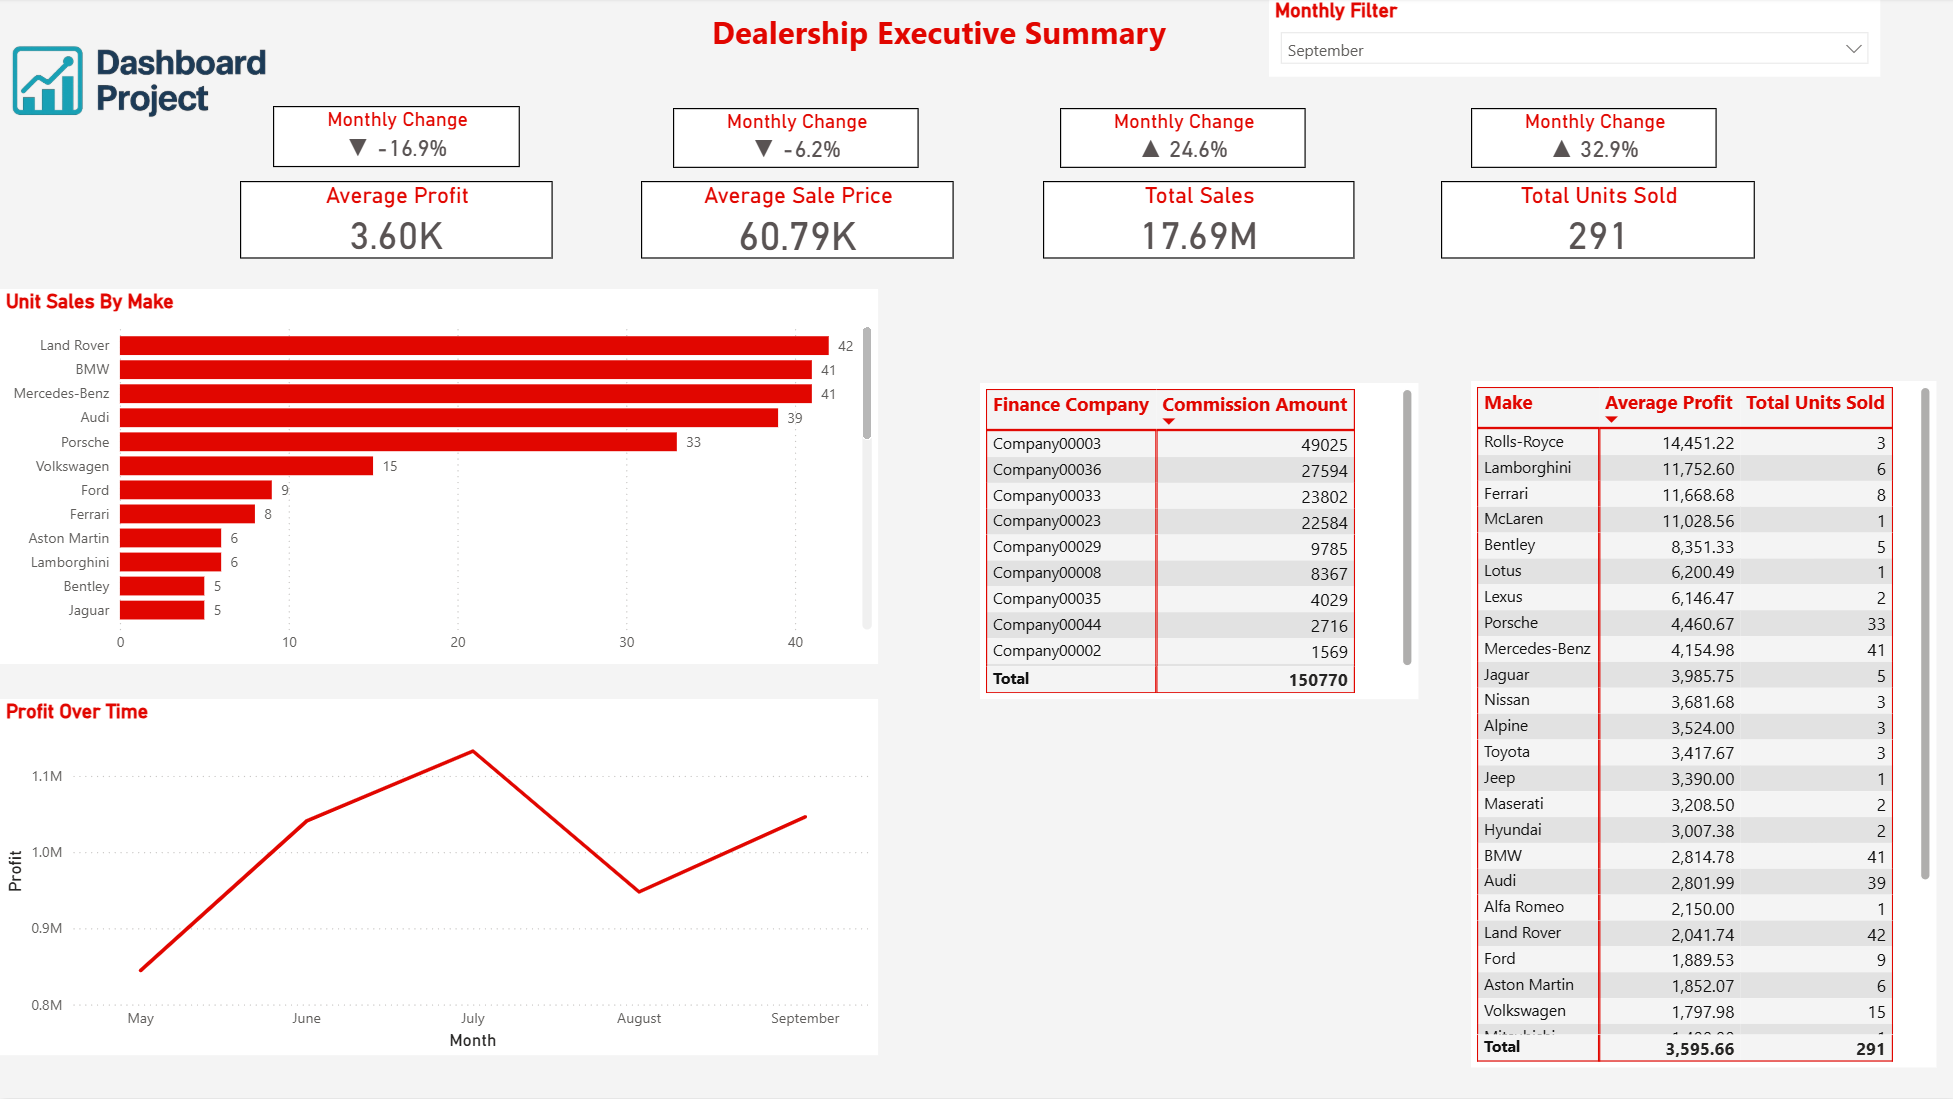

This screenshot's page, from the dashboard's own definition file:
{"tool":"powerbi","page":{"name":"Executive Summary","canvas":[1664,936],"ordinal":0},"visuals":[{"type":"textbox","box":[600.7,5.4,603.4,61.7],"z":1000},{"type":"card","title":"Average Profit","fields":{"Values":["Sales_May_June_2025.Average Profit"]},"box":[204.1,155.4,266,65.8],"z":2000},{"type":"card","title":"Average Sale Price","fields":{"Values":["Sales_May_June_2025.Average Sale Price"]},"box":[545.2,155.4,266,65.8],"z":3000},{"type":"card","title":"Total Sales","fields":{"Values":["Sales_May_June_2025.Total Sales"]},"box":[887.6,155.4,264.7,65.8],"z":4000},{"type":"card","title":"Total Units Sold","fields":{"Values":["Sales_May_June_2025.Total Units Sold"]},"box":[1226,155.4,267.3,65.8],"z":5000},{"type":"clusteredBarChart","title":"Unit Sales By Make","fields":{"Category":["Sales_Combined.Make"],"Y":["Saved Measures.Total Units Sold"]},"box":[0,247.6,746.7,318.7],"z":6000},{"type":"lineChart","title":"Profit Over Time","fields":{"Y":["Sales_May_June_2025.Profit"],"Category":["DateTable.Month"]},"box":[0,596.5,746.7,302.9],"z":7000},{"type":"pivotTable","fields":{"Values":["Sales_May_June_2025.Average Profit","Saved Measures.Total Units Sold"],"Rows":["Sales_May_June_2025.Make"]},"box":[1251,326,396,584],"z":8000},{"type":"slicer","title":"Monthly Filter","fields":{"Values":["DateTable.Month"]},"box":[1079.8,0,520.2,67.2],"z":9000},{"type":"card","title":"Monthly Change","fields":{"Values":["Saved Measures.Avg Profit MoM % Display"]},"box":[232,92,210,52],"z":10000},{"type":"card","title":"Monthly Change","fields":{"Values":["Saved Measures.Average Sale Price MoM % Display"]},"box":[572.8,93.5,209.4,51.4],"z":11000},{"type":"card","title":"Monthly Change","fields":{"Values":["Saved Measures.Total Sales MoM % Display"]},"box":[902.1,93.5,209.4,51.4],"z":12000},{"type":"card","title":"Monthly Change","fields":{"Values":["Saved Measures.Total Units Sold MoM % Display"]},"box":[1251,93.5,209.4,51.4],"z":13000},{"type":"pivotTable","fields":{"Rows":["Merged_Finance.Finance Company"],"Values":["Sum(Merged_Finance.Finance Commission)"]},"box":[833.8,327.5,372.9,268.6],"z":14000},{"type":"image","box":[0,0,239.9,149.7],"z":14001}]}

Visuals, with their boxes in screenshot pixels (x1, y1, x2, y2), scaled from the page's 1664x936 canvas onto the 1953x1099 screenshot:
textbox: left=705, top=6, right=1413, bottom=79
"Average Profit" card: left=240, top=182, right=552, bottom=260
"Average Sale Price" card: left=640, top=182, right=952, bottom=260
"Total Sales" card: left=1042, top=182, right=1352, bottom=260
"Total Units Sold" card: left=1439, top=182, right=1753, bottom=260
"Unit Sales By Make" clusteredBarChart: left=0, top=291, right=876, bottom=665
"Profit Over Time" lineChart: left=0, top=700, right=876, bottom=1056
pivotTable - Sales_May_June_2025.Average Profit x Saved Measures.Total Units Sold: left=1468, top=383, right=1933, bottom=1068
"Monthly Filter" slicer: left=1267, top=0, right=1878, bottom=79
"Monthly Change" card: left=272, top=108, right=519, bottom=169
"Monthly Change" card: left=672, top=110, right=918, bottom=170
"Monthly Change" card: left=1059, top=110, right=1305, bottom=170
"Monthly Change" card: left=1468, top=110, right=1714, bottom=170
pivotTable - Merged_Finance.Finance Company x Sum(Merged_Finance.Finance Commission): left=979, top=385, right=1416, bottom=700
image: left=0, top=0, right=282, bottom=176
